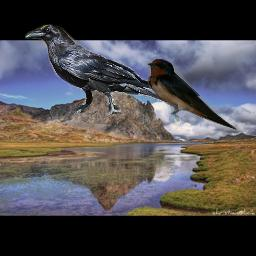Crow: (25, 24, 179, 118)
Swallow: (145, 57, 239, 131)
